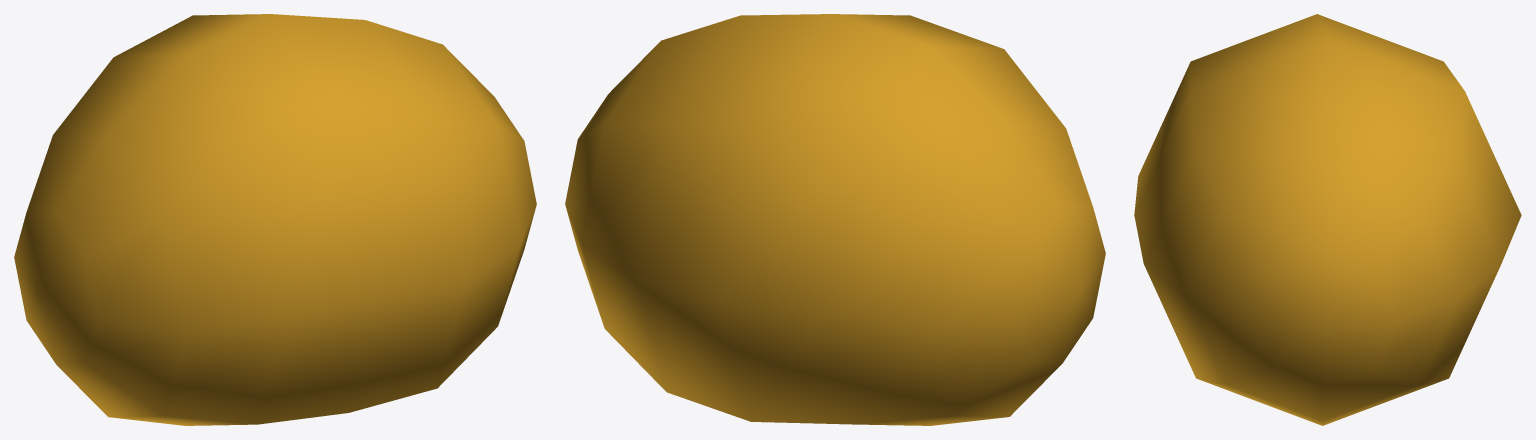
File: SM_Potato_002_001.fbx
3 renders of one model, left to right at view 1: azimuth 30°, elevation 25°; view 2: azimuth 150°, elevation 25°; view 3: azimuth 270°, elevation 25°, orthographic. The views are drawn at different scales.
Parts seen in each view (by area): view 1: Potato1; view 2: Potato1; view 3: Potato1.
Boxes of the visible parts, x1=… form: Potato1: x1=14, y1=14, x2=536, y2=425; Potato1: x1=565, y1=14, x2=1105, y2=425; Potato1: x1=1134, y1=14, x2=1521, y2=425.
Bounding box in the file's own units: 0.0367 × 0.0294 × 0.0294.
